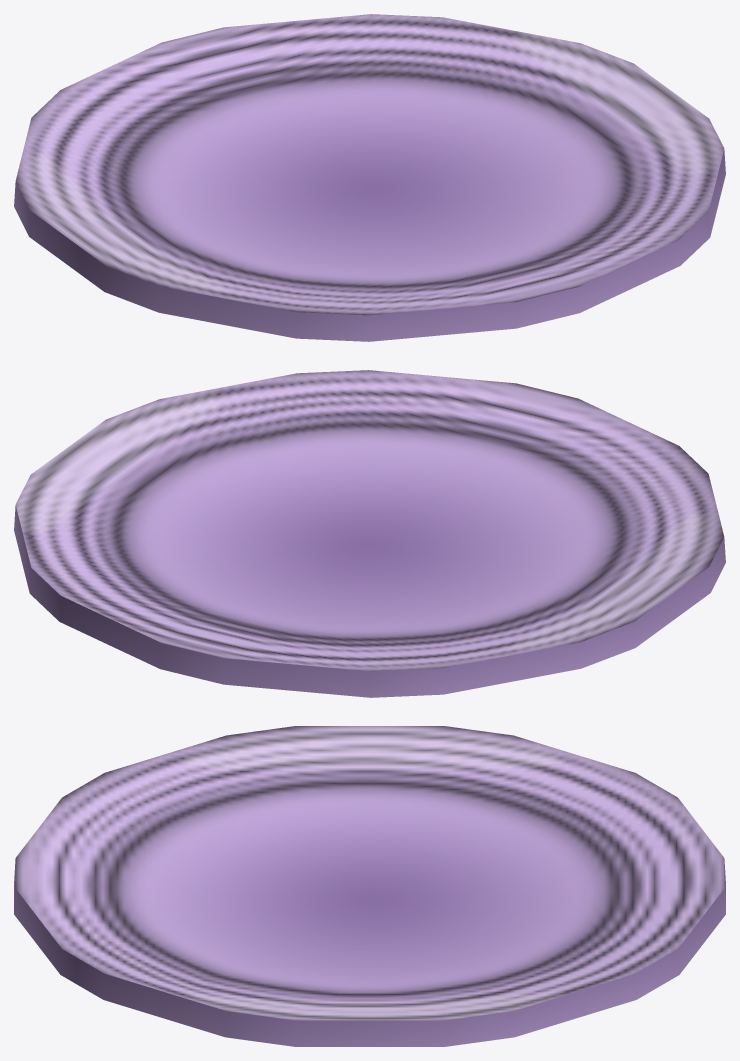
Rendered from Plate_B.FBX.
3 views of the same model, one above another, from view 1: azimuth 30°, elevation 25°; view 2: azimuth 150°, elevation 25°; view 3: azimuth 270°, elevation 25° (orthographic).
Parts seen in each view (by area): view 1: Plate; view 2: Plate; view 3: Plate.
Boxes of the visible parts, left/top/right/bottom form: Plate: left=14, top=14, right=725, bottom=341; Plate: left=14, top=370, right=725, bottom=697; Plate: left=14, top=726, right=725, bottom=1046.
Size of the model in its own units: 105 by 4.28 by 107.
